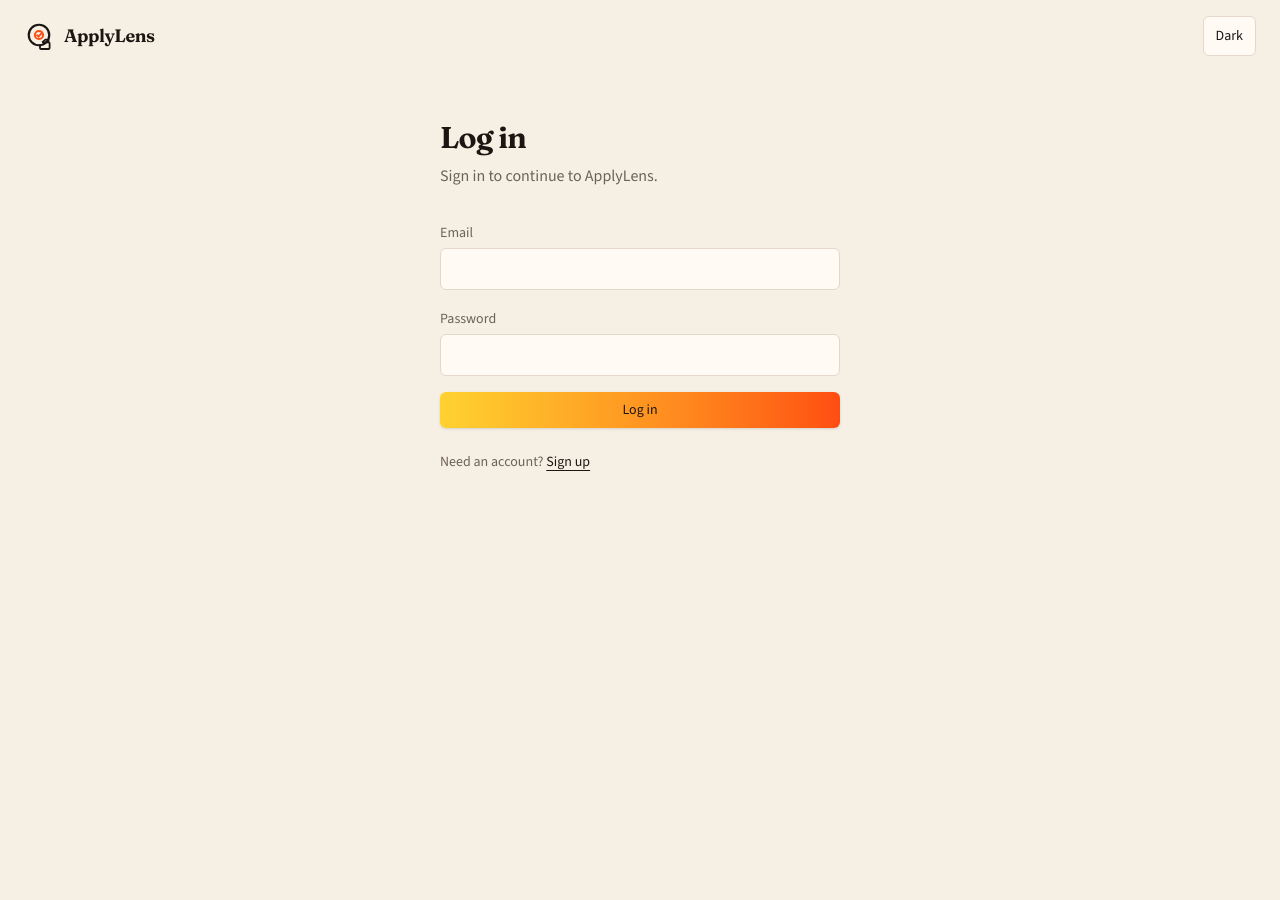
Scenario: frontend authentication flows › logs in and reaches protected content
Type "user@example.com" into the field labelled "Email" at (640, 269), box [440,248,840,290]
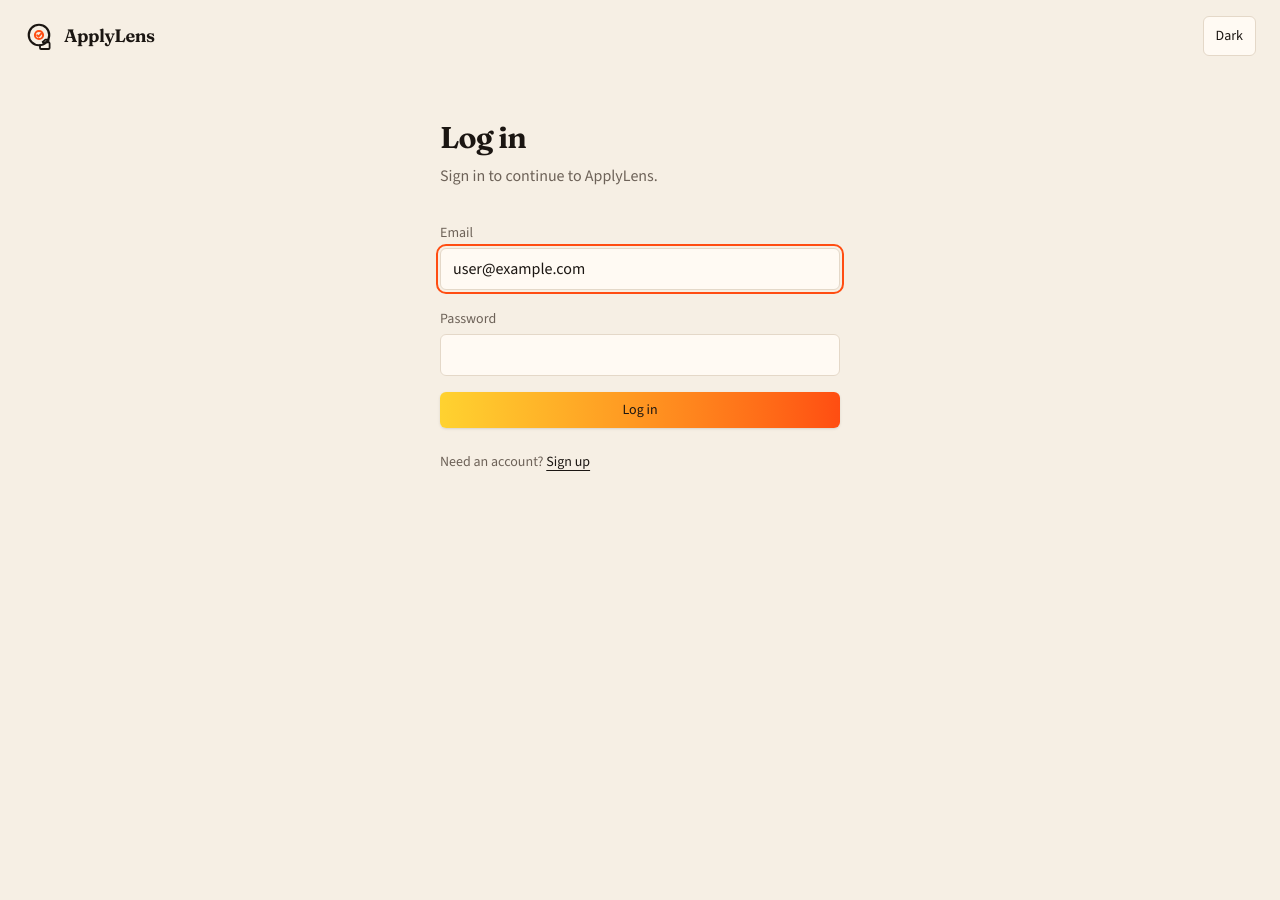
Type "password123" into the password field labelled "Password" at (640, 355), box [440,334,840,376]
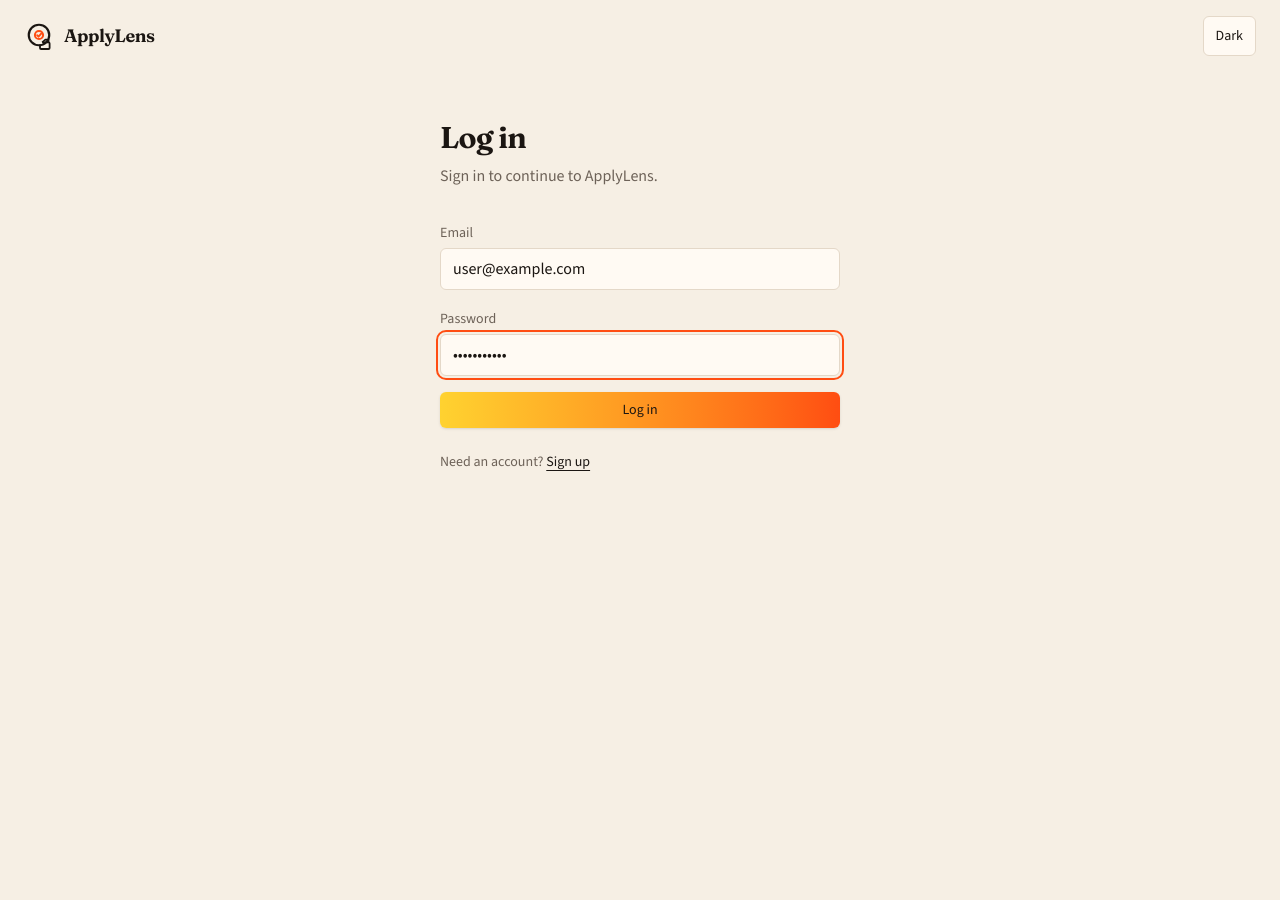
Click the button "Log in" at (640, 410), box [440,392,840,428]
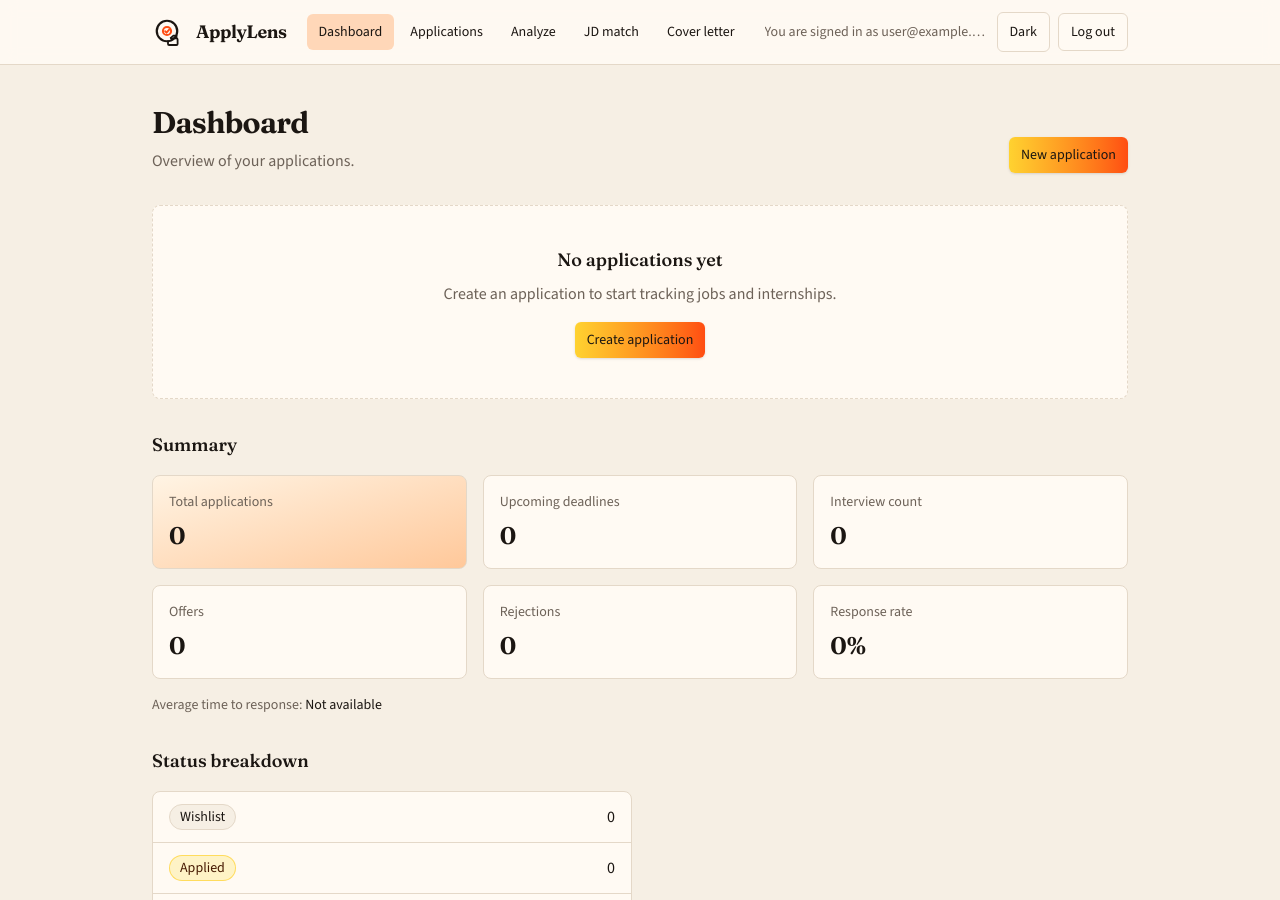
Expected: the text "You are signed in as user@example.com." is shown, [764,22,988,42]
